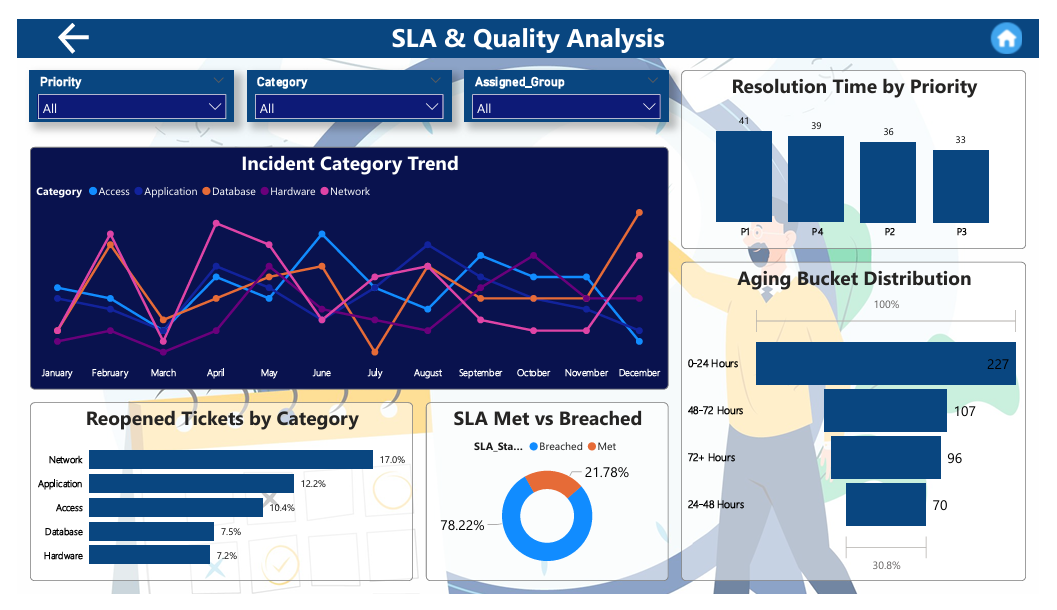

Layout of this report page (visuals, bound fields, positions):
{"tool":"powerbi","page":{"name":"SLA & Quality","canvas":[1280,720],"ordinal":3},"visuals":[{"type":"textbox","title":"SLA & Quality Analysis","box":[0,0,1280,48],"z":7000},{"type":"actionButton","box":[48,0,96,48],"z":8000},{"type":"actionButton","box":[1216,0,48,48],"z":9000},{"type":"donutChart","title":"SLA Met vs Breached","fields":{"Category":["Incident_Data_Set.SLA_Status"],"Y":["Incident_Data_Set.Total Tickets"]},"box":[512,480,304,224],"z":9001},{"type":"clusteredColumnChart","title":"Resolution Time by Priority","fields":{"Category":["Incident_Data_Set.Priority"],"Y":["Incident_Data_Set.Avg Resolution Time(Hrs)"]},"box":[832,64,432,224],"z":9002},{"type":"clusteredBarChart","title":"Reopened Tickets by Category","fields":{"Category":["Incident_Data_Set.Category"],"Y":["Incident_Data_Set.Reopened%"]},"box":[16,480,480,224],"z":9003},{"type":"funnel","title":"Aging Bucket Distribution","fields":{"Category":["Incident_Data_Set.Aging_Bucket"],"Y":["Incident_Data_Set.Total Tickets"]},"box":[832,304,432,400],"z":9004},{"type":"lineChart","title":"Incident Category Trend","fields":{"Category":["Incident_Data_Set.Created_Date.Variation.Date Hierarchy.Month","Incident_Data_Set.Created_Date.Variation.Date Hierarchy.Day"],"Y":["Incident_Data_Set.Total Tickets"],"Series":["Incident_Data_Set.Category"]},"box":[16,160,800,304],"z":9005},{"type":"slicer","fields":{"Values":["Incident_Data_Set.Priority"]},"box":[16,64,256,64],"z":9006},{"type":"slicer","fields":{"Values":["Incident_Data_Set.Category"]},"box":[288,64,256,64],"z":9007},{"type":"slicer","fields":{"Values":["Incident_Data_Set.Assigned_Group"]},"box":[560,64,256,64],"z":9008}]}

Visuals, with their boxes in screenshot pixels (x1, y1, x2, y2), scaled from the page's 1280x720 canvas onto the 1057x610 screenshot:
"SLA & Quality Analysis" textbox: pyautogui.locateOnScreen(0, 0, 1056, 41)
actionButton: pyautogui.locateOnScreen(40, 0, 119, 41)
actionButton: pyautogui.locateOnScreen(1004, 0, 1044, 41)
"SLA Met vs Breached" donutChart: pyautogui.locateOnScreen(423, 407, 674, 596)
"Resolution Time by Priority" clusteredColumnChart: pyautogui.locateOnScreen(687, 54, 1044, 244)
"Reopened Tickets by Category" clusteredBarChart: pyautogui.locateOnScreen(13, 407, 410, 596)
"Aging Bucket Distribution" funnel: pyautogui.locateOnScreen(687, 258, 1044, 596)
"Incident Category Trend" lineChart: pyautogui.locateOnScreen(13, 136, 674, 393)
slicer - Incident_Data_Set.Priority: pyautogui.locateOnScreen(13, 54, 225, 108)
slicer - Incident_Data_Set.Category: pyautogui.locateOnScreen(238, 54, 449, 108)
slicer - Incident_Data_Set.Assigned_Group: pyautogui.locateOnScreen(462, 54, 674, 108)
